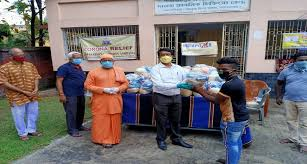mask: (215, 57, 236, 80), (9, 47, 27, 64), (99, 51, 113, 71), (157, 46, 171, 64), (293, 53, 307, 71), (68, 50, 82, 65)
